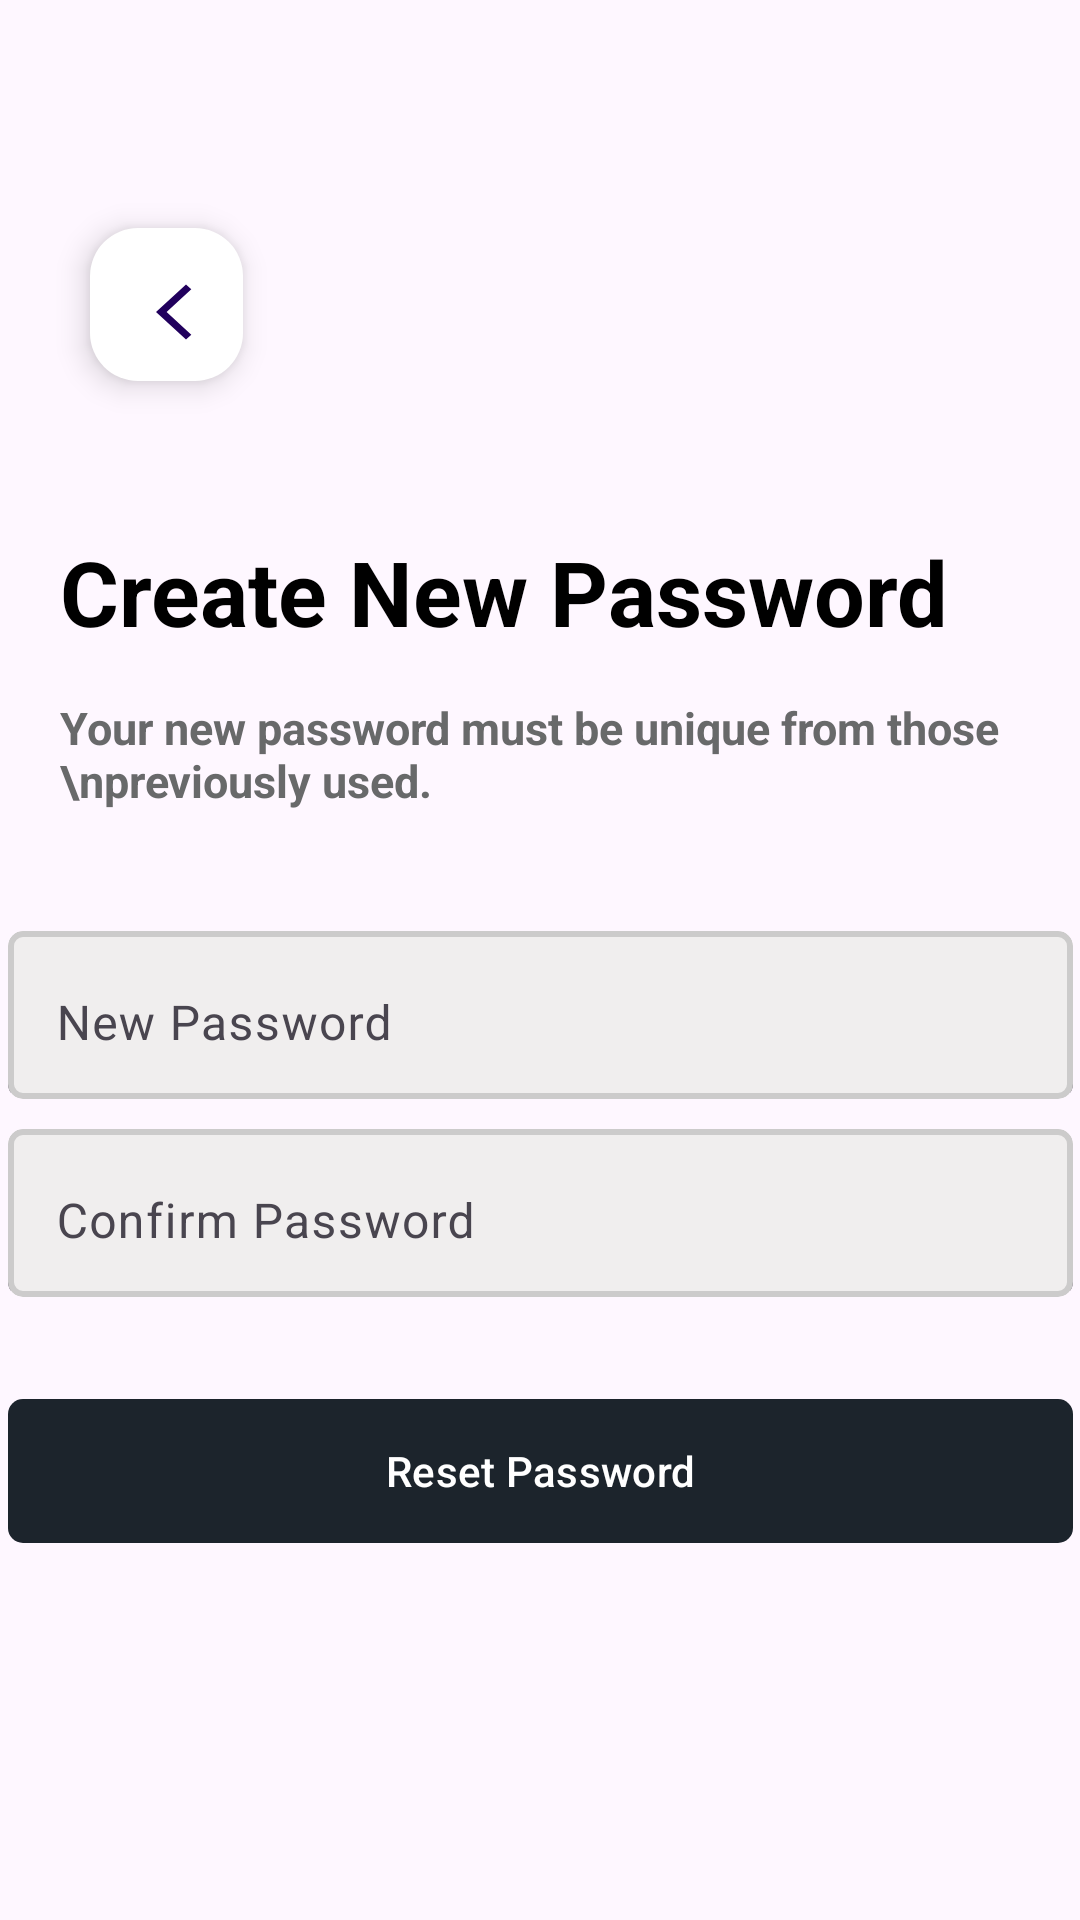

Where to tap for icons on this 1080 × 1920 app screen, as (x=x, y=y):
arrow back: (x=166, y=304)
